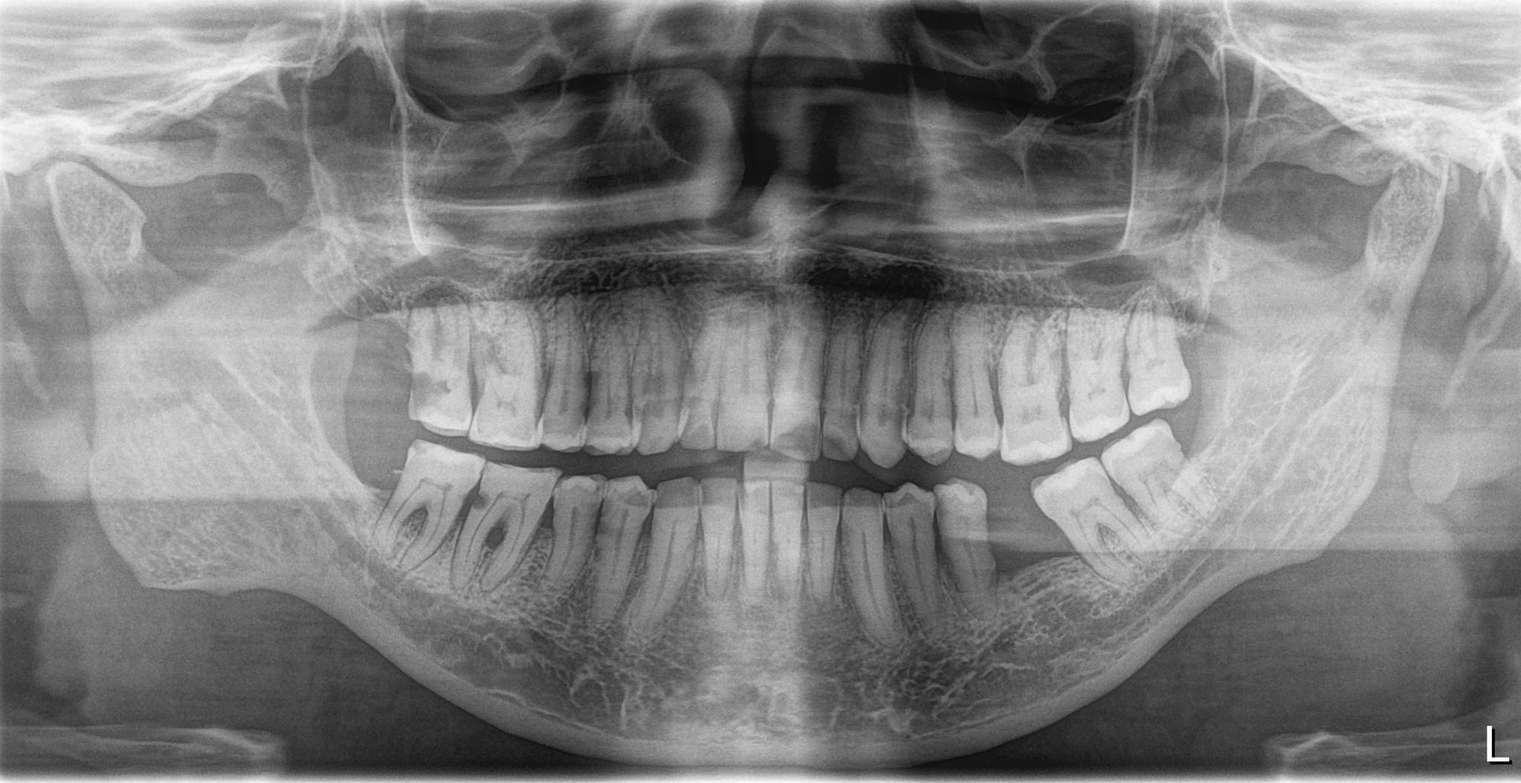Missing Tooth: (988, 486, 1060, 596), (336, 306, 420, 398), (323, 427, 400, 502)
Periapical Lesion: (388, 495, 434, 551), (479, 516, 515, 573)
